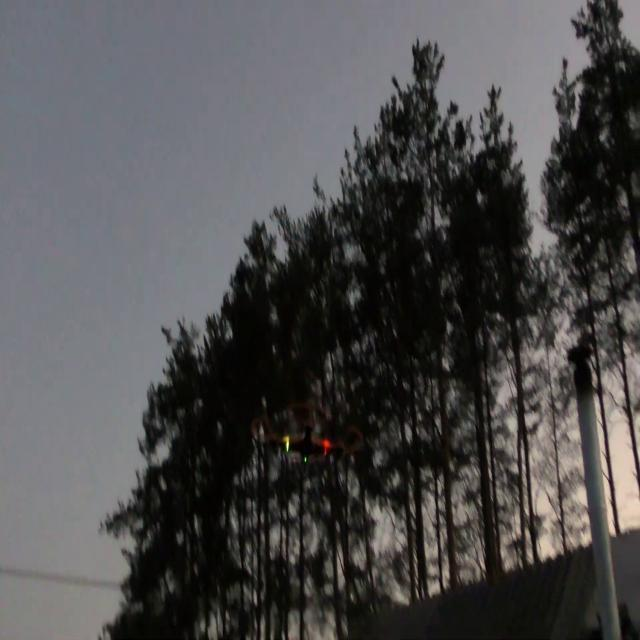Drons: (251, 399, 364, 477)
